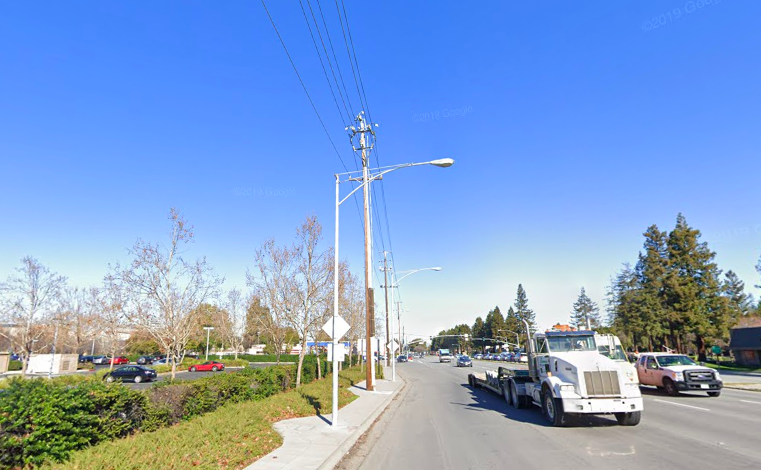tree: (101, 206, 228, 382), (606, 211, 741, 366)
utility_pole: (338, 103, 384, 175)
